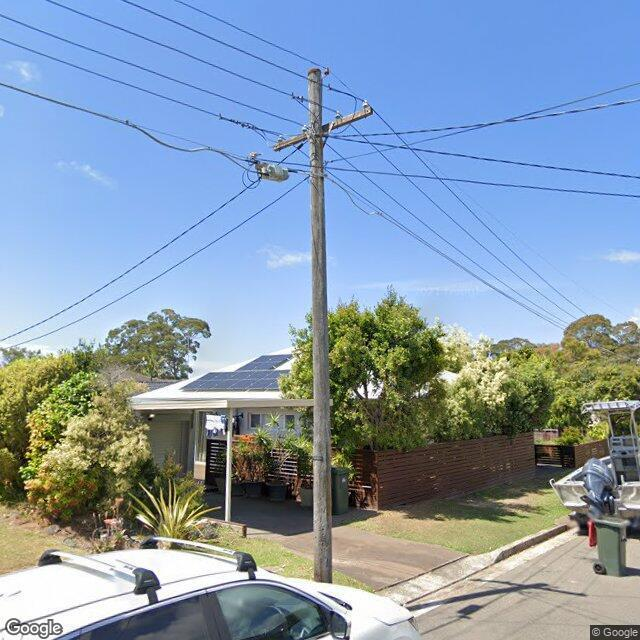crossarm: (274, 106, 374, 152)
timber-pole: (309, 68, 333, 584)
